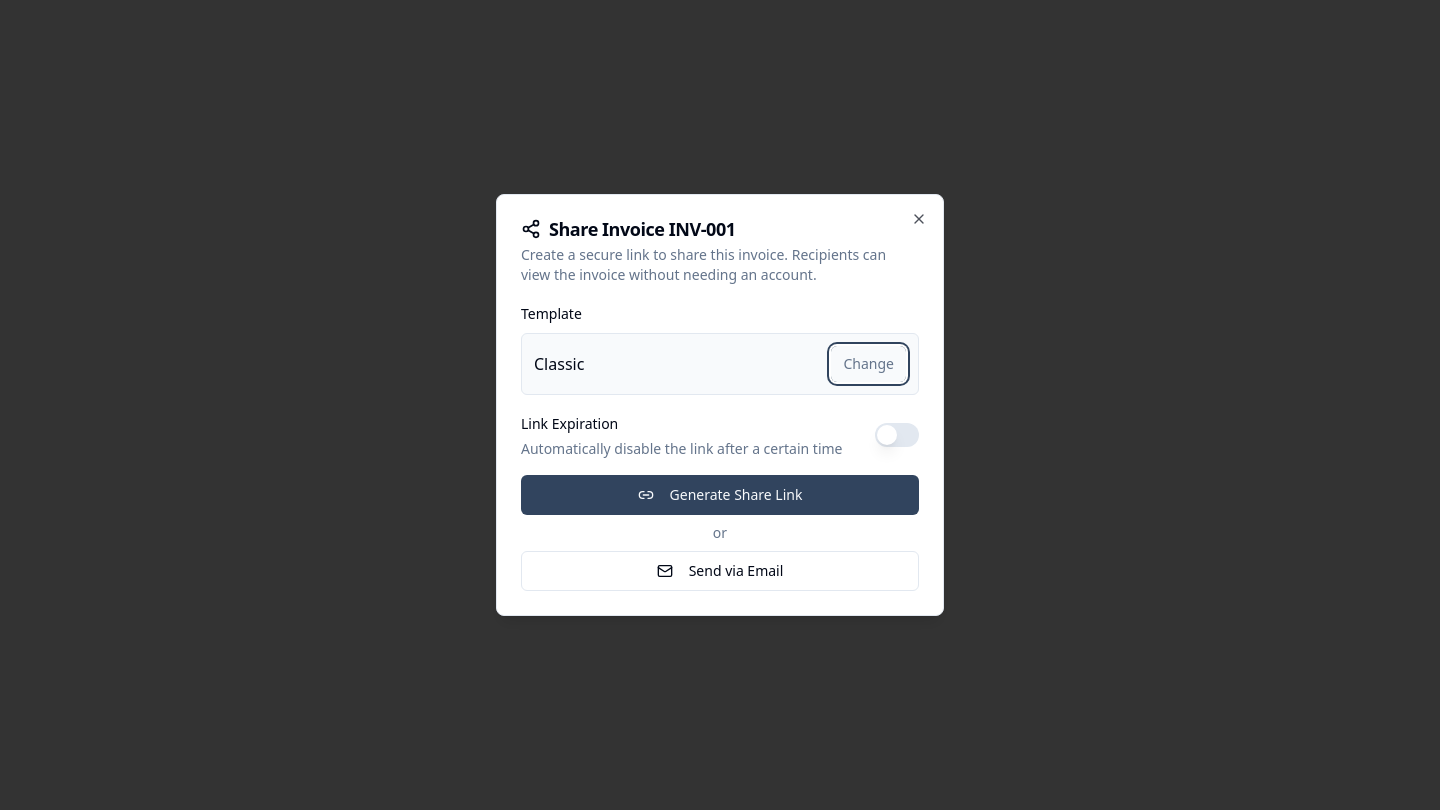
Test: Invoice Sharing Feature › ShareInvoiceModal › displays share URL after generation
Click the button "Generate Share Link": (720, 495) [521,475,919,515]
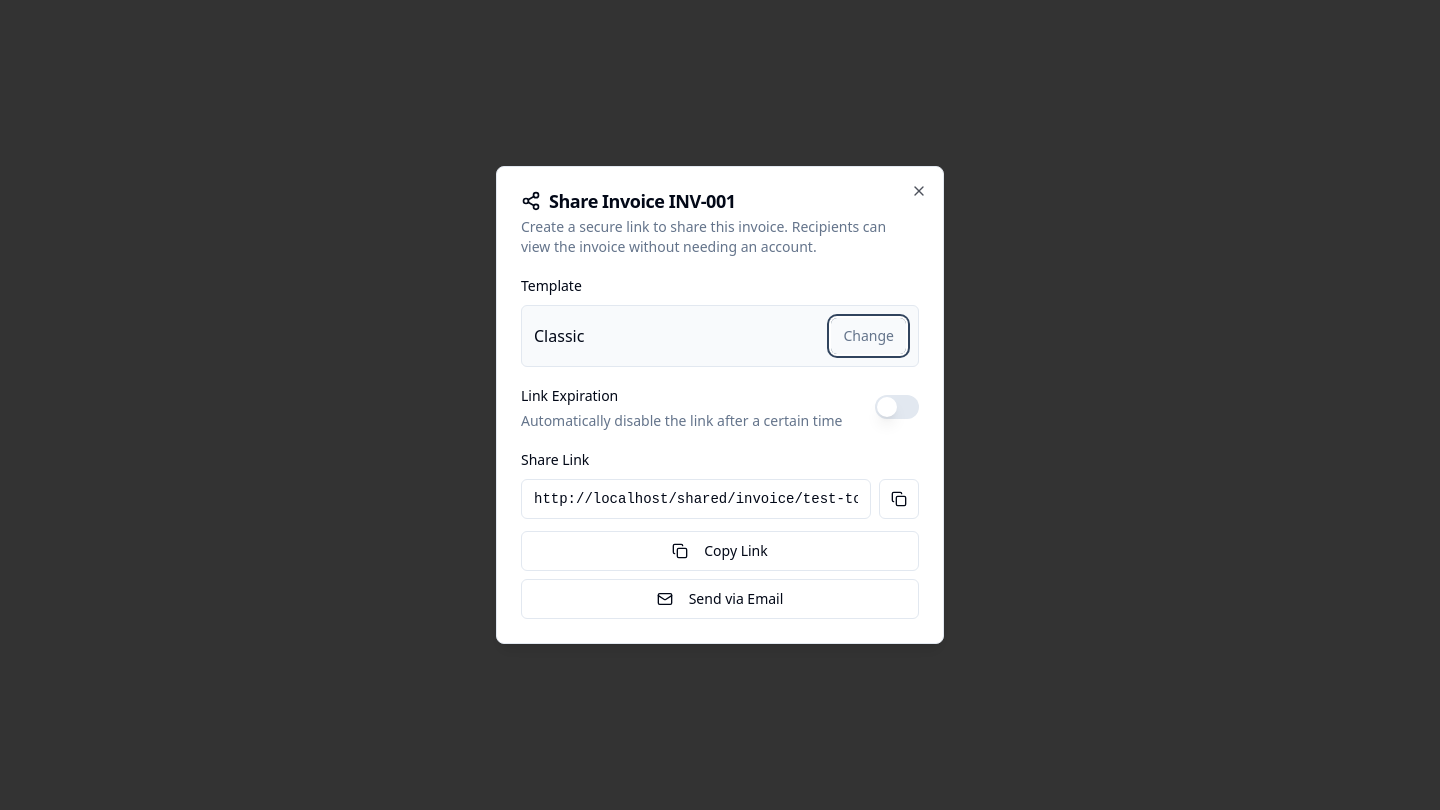
Now the field showing "/shared/invoice/test-token-123" is shown, box [521,479,871,519]
Now the button "Copy Link" is shown, box [521,531,919,571]
